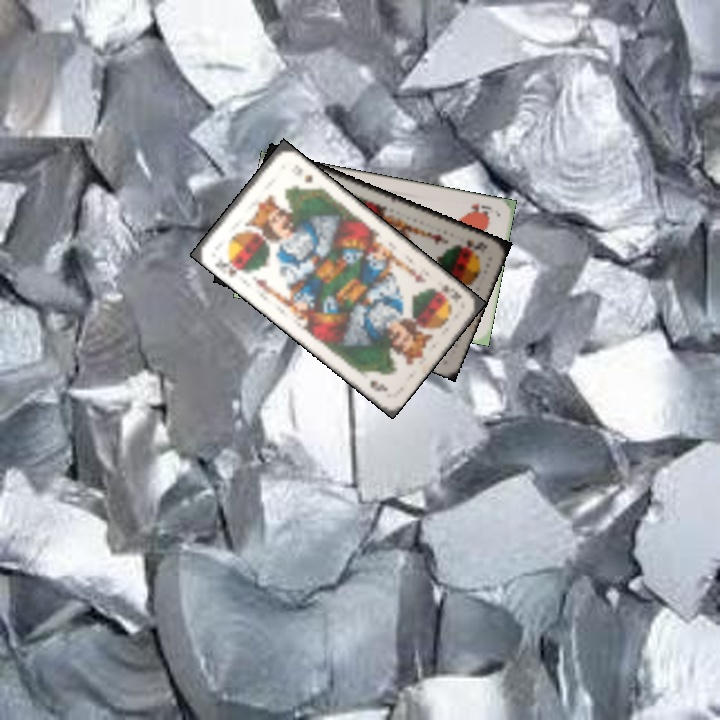HO: (467, 199, 496, 219)
SK: (210, 255, 247, 280), (438, 281, 464, 305), (459, 235, 490, 255)
